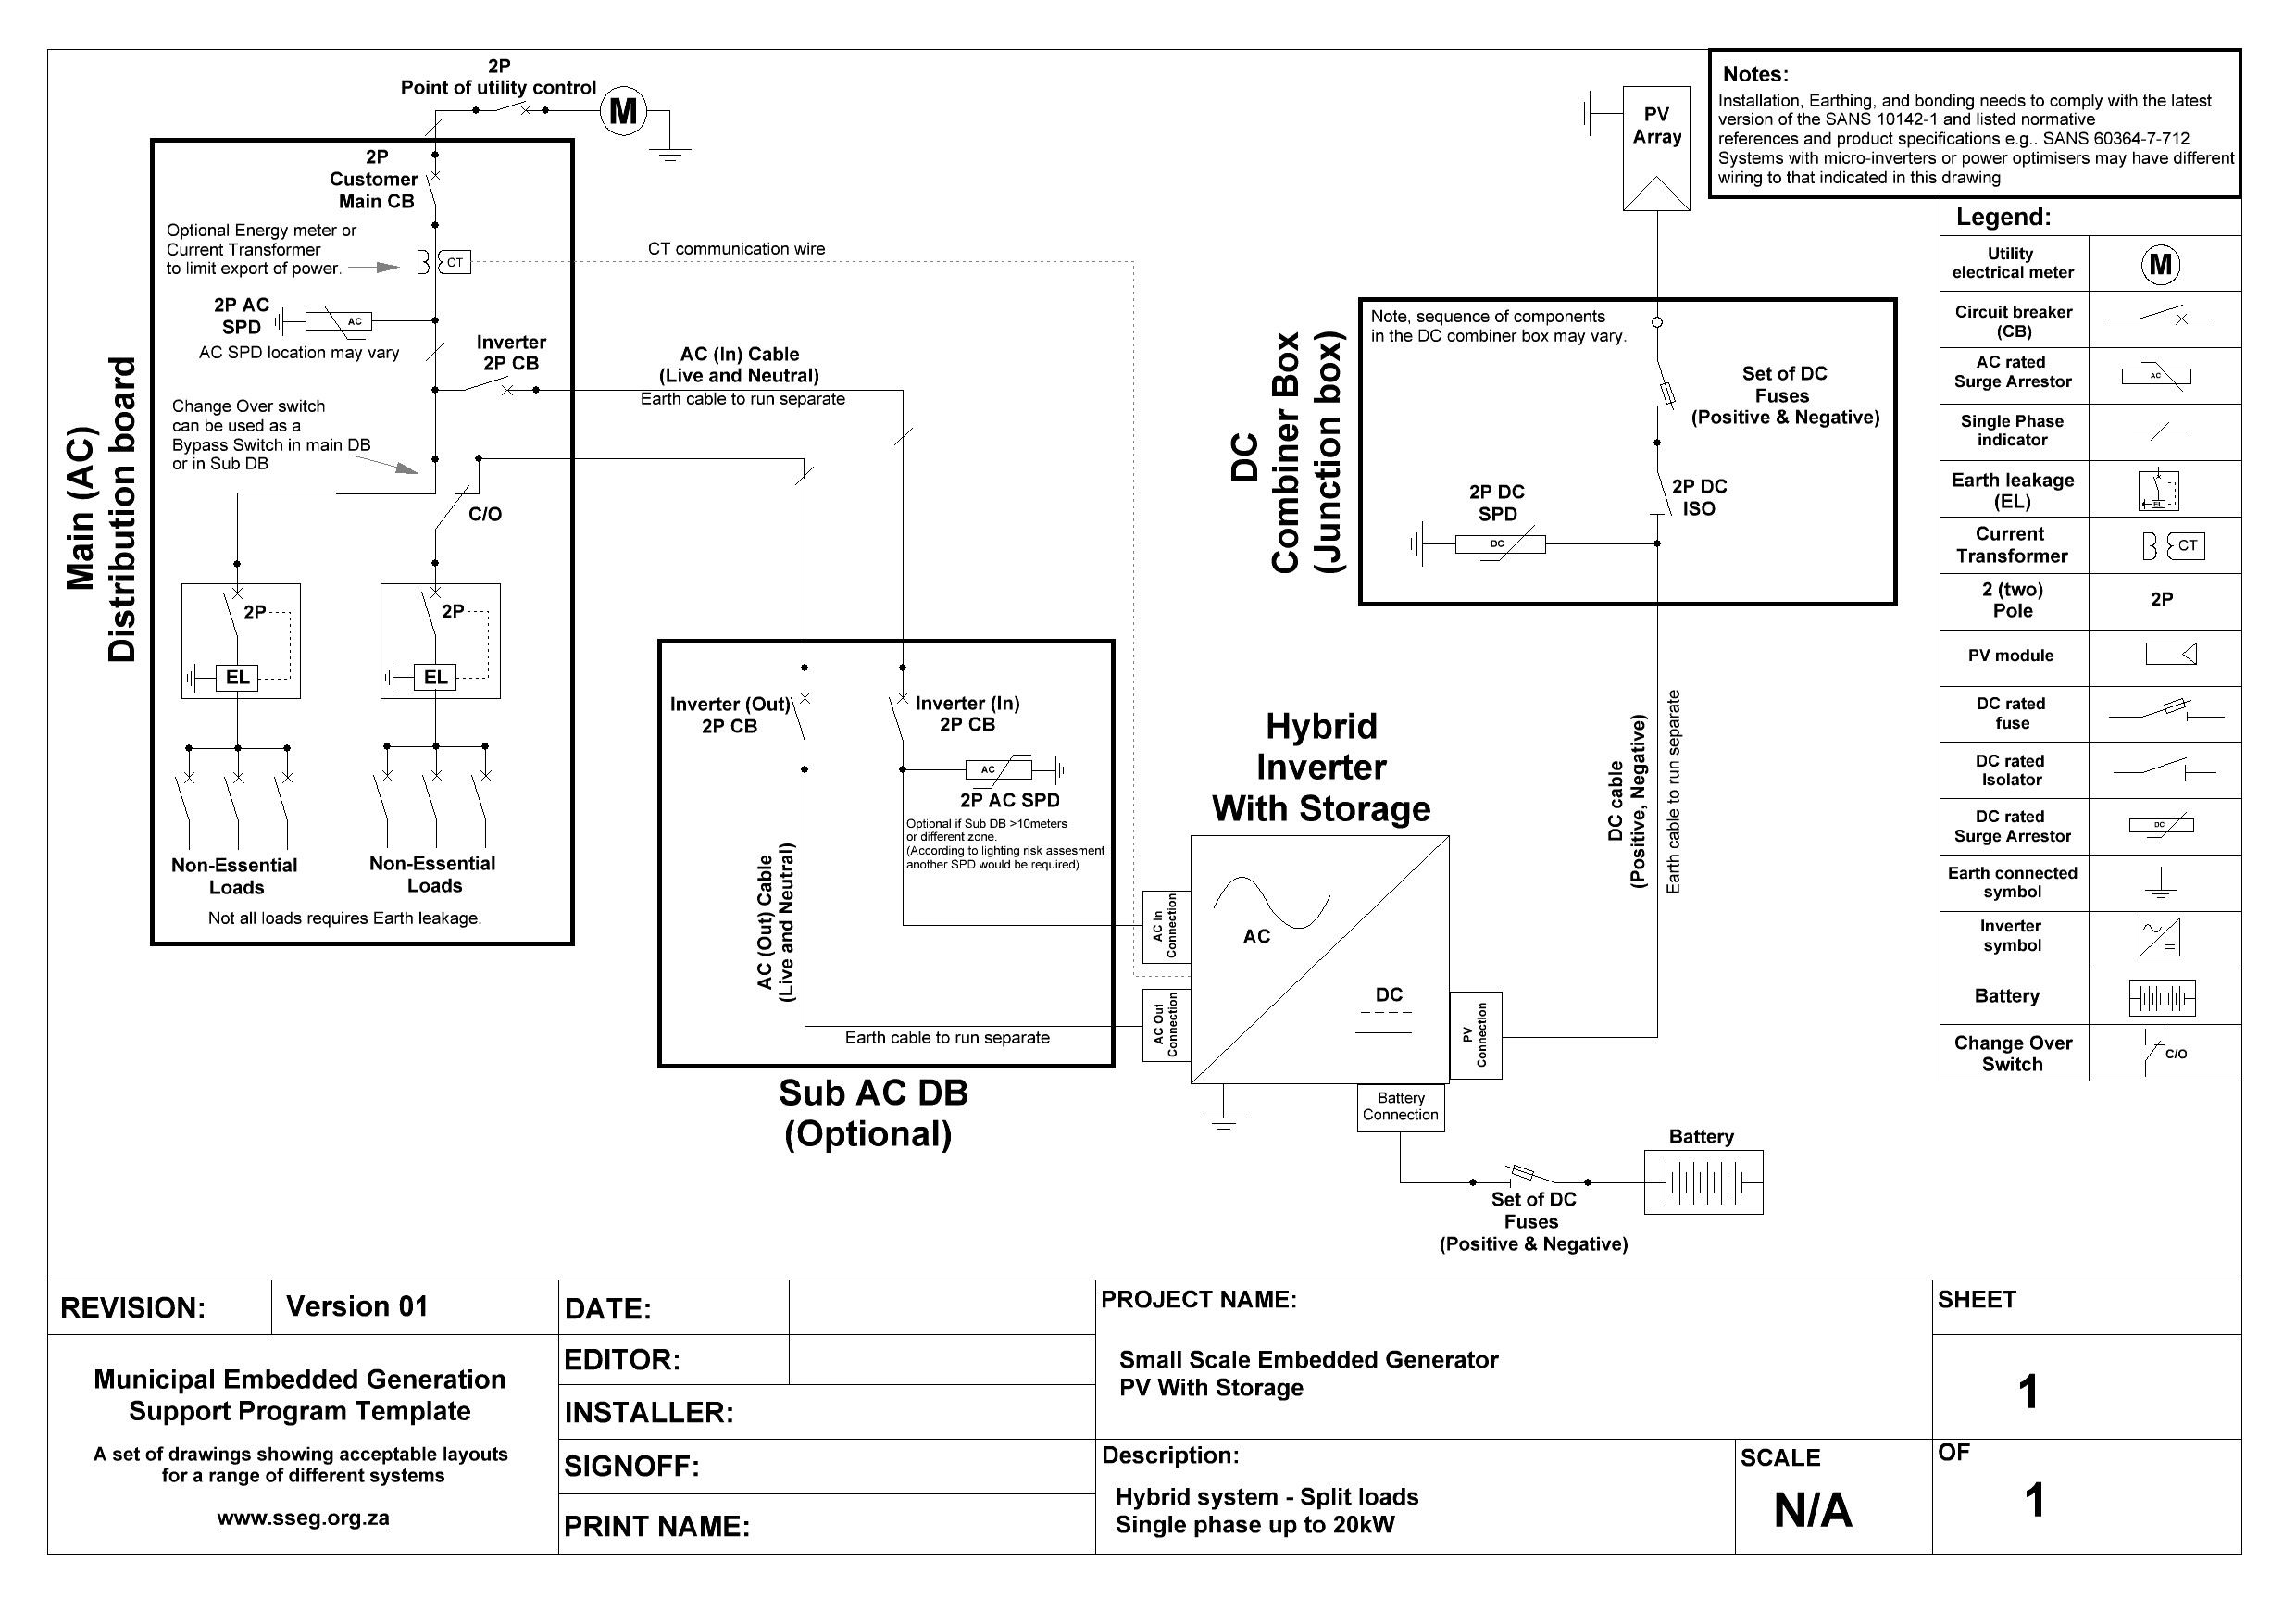fuse: (1456, 1153, 1591, 1199), (1634, 332, 1687, 433)
ground: (638, 115, 715, 184), (1383, 501, 1439, 589), (1167, 1104, 1286, 1143), (1557, 73, 1607, 156), (1044, 732, 1073, 806), (253, 299, 294, 344), (363, 656, 406, 694), (173, 660, 214, 693)
switch: (392, 442, 512, 548), (406, 566, 472, 649), (206, 574, 267, 656), (1631, 462, 1687, 536), (405, 156, 470, 218), (264, 758, 314, 838), (354, 761, 406, 831), (460, 758, 510, 831), (413, 755, 451, 849), (419, 376, 550, 403), (873, 677, 923, 742), (163, 756, 205, 829), (218, 759, 255, 835), (470, 97, 548, 130), (782, 682, 820, 741)
transformer: (392, 233, 480, 294)
